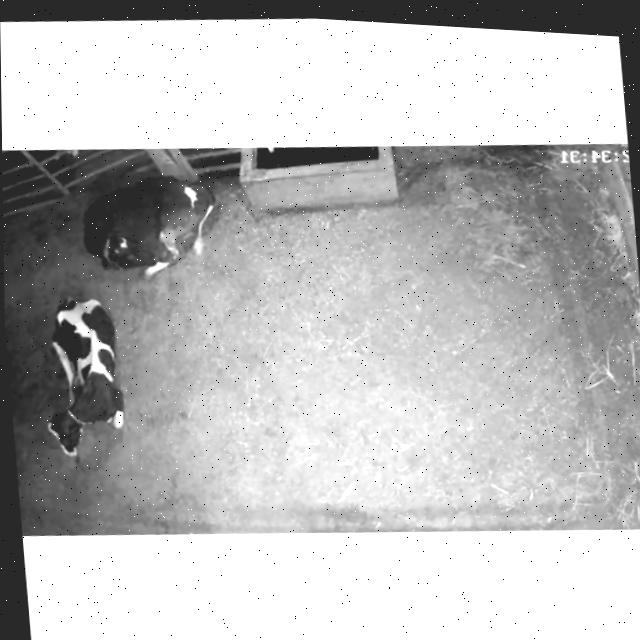lay: (15, 275, 144, 479), (56, 157, 224, 288)
